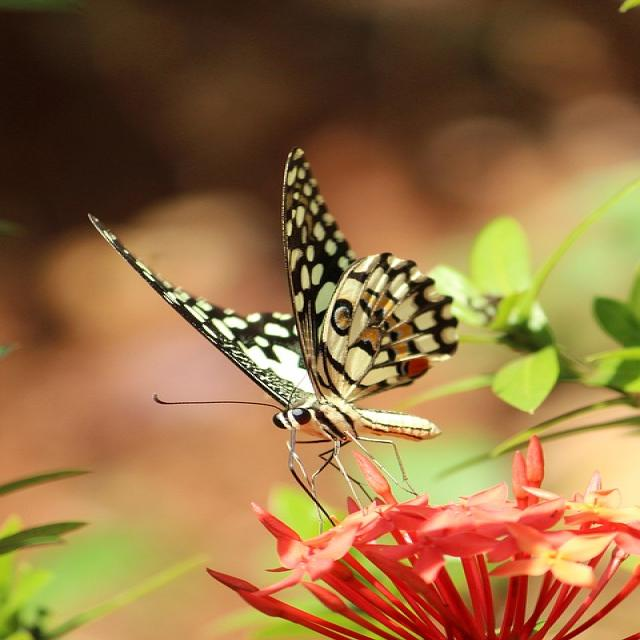butterfly: (87, 149, 467, 510)
